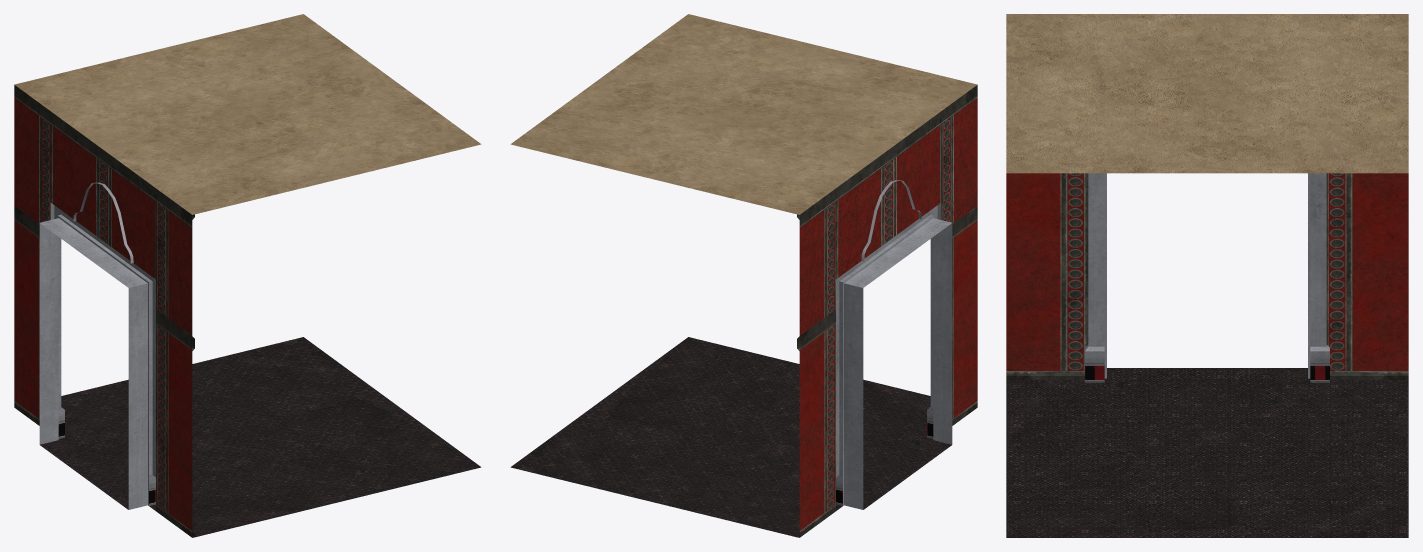
Rendered from pared_entrada.obj.
3 views of the same model, side by side, from view 1: azimuth 30°, elevation 25°; view 2: azimuth 150°, elevation 25°; view 3: azimuth 270°, elevation 25° (orthographic). The views are drawn at different scales.
Parts seen in each view (by area): view 1: pared_entrada; view 2: pared_entrada; view 3: pared_entrada.
Part boxes in pixels (x1=…): pared_entrada: x1=14, y1=14, x2=481, y2=537; pared_entrada: x1=510, y1=14, x2=977, y2=537; pared_entrada: x1=1006, y1=14, x2=1408, y2=537.
Size of the model in its own units: 256 by 256 by 256.
4 materials, 4 textured.
